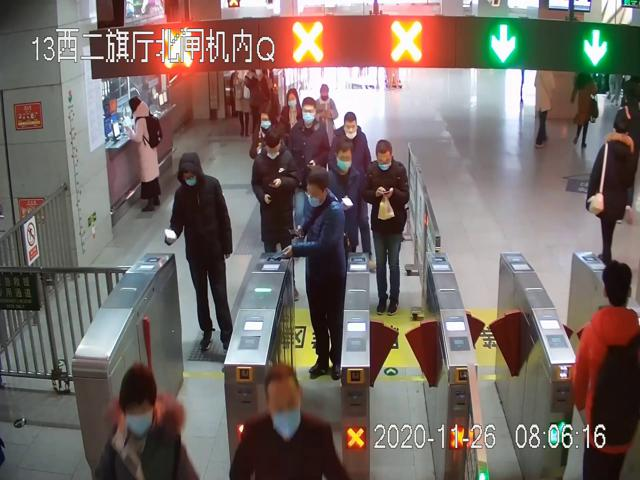person: (167, 151, 236, 352), (284, 168, 343, 385), (252, 134, 300, 302), (364, 137, 408, 319), (328, 110, 378, 268), (287, 99, 327, 242), (125, 96, 163, 212)
